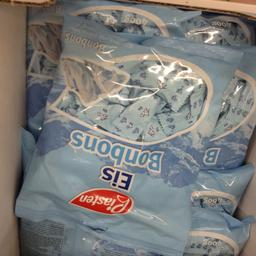candy: (30, 20, 231, 244)
